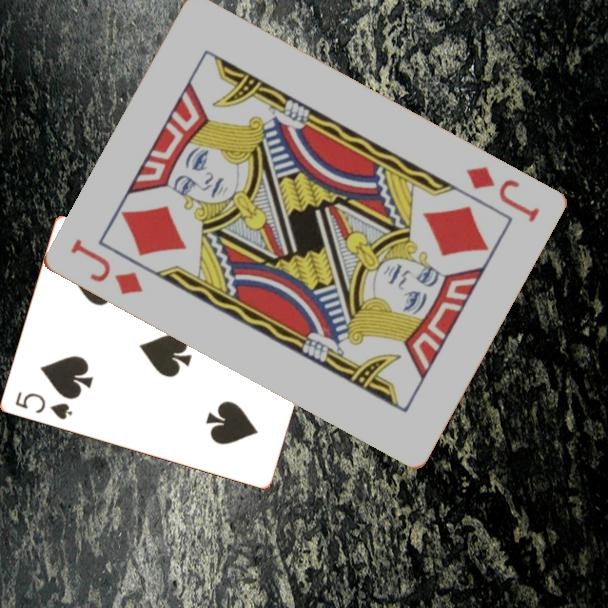d11: (461, 162, 542, 226), (66, 235, 145, 298)
s05: (11, 388, 75, 423)
